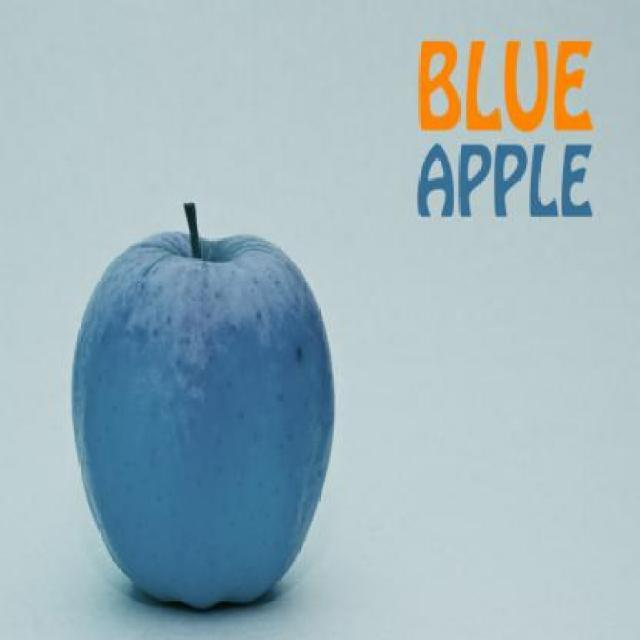Apple pie: (66, 222, 342, 620)
